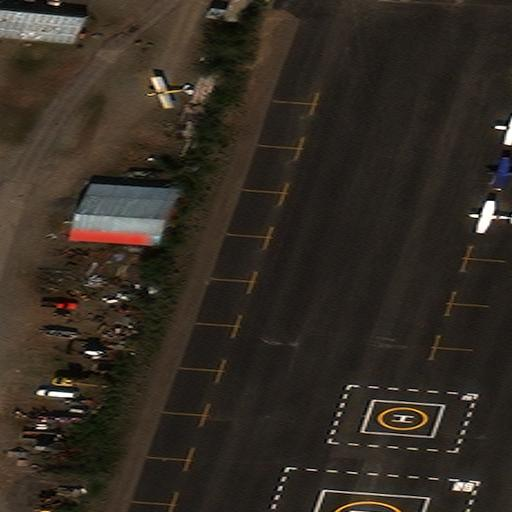Small Civil Transport: (144, 76, 193, 108), (469, 200, 511, 233), (487, 156, 511, 187), (494, 113, 511, 144)
